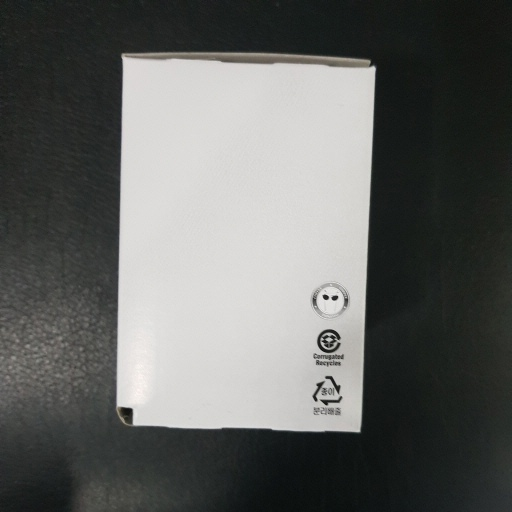Paper_0: (97, 37, 389, 450)
